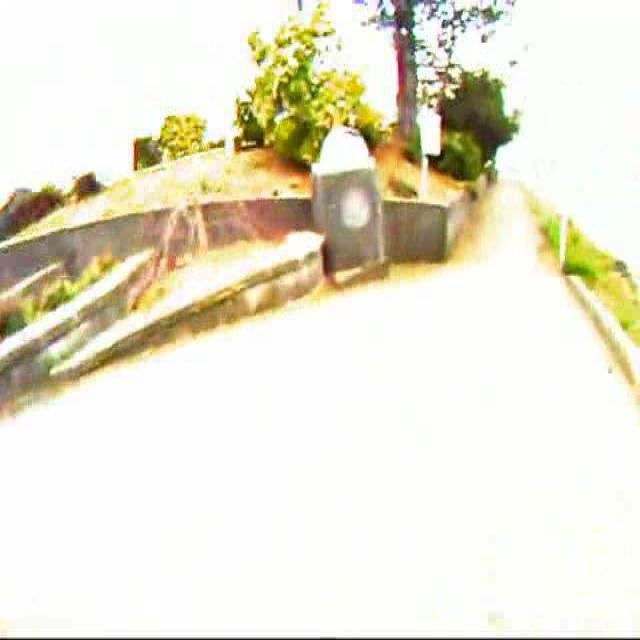other: (218, 128, 312, 310)
